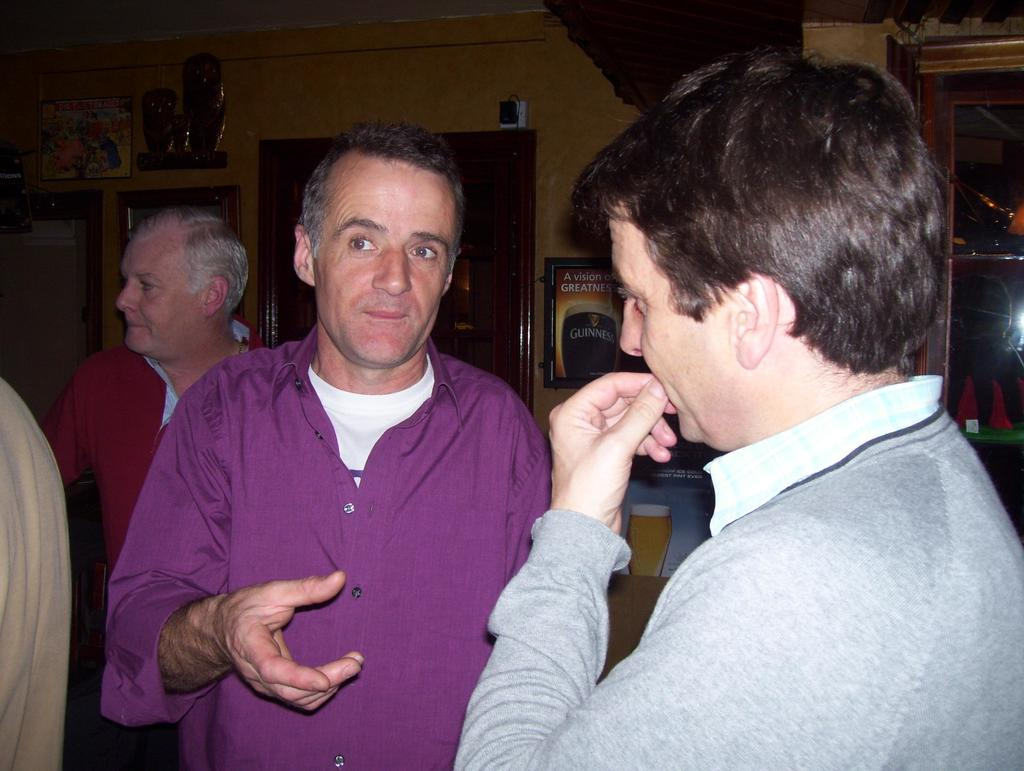Human-face: (610, 211, 733, 443), (314, 171, 456, 364), (116, 244, 201, 353)
